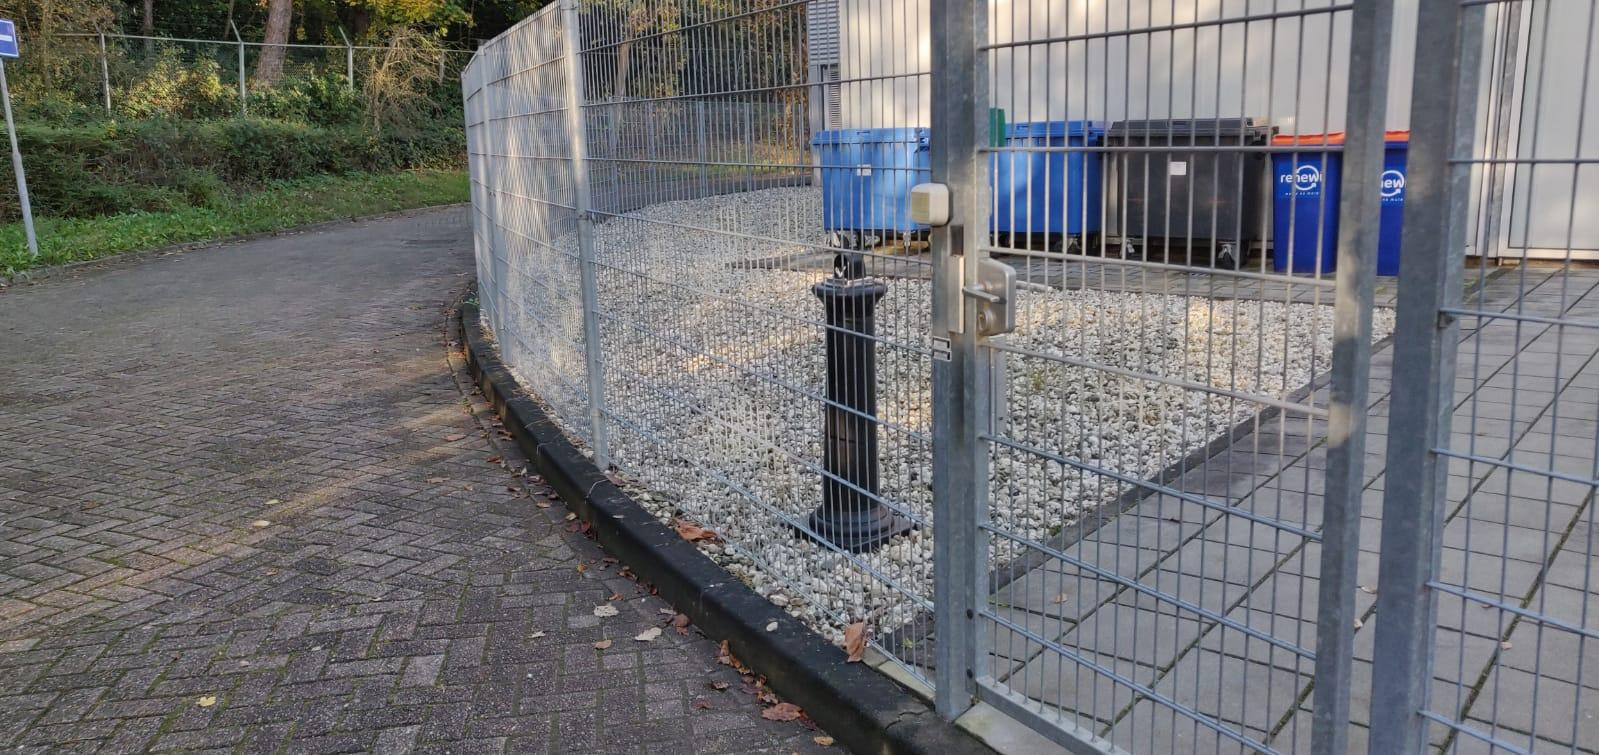obstacle: (456, 314, 1599, 753)
